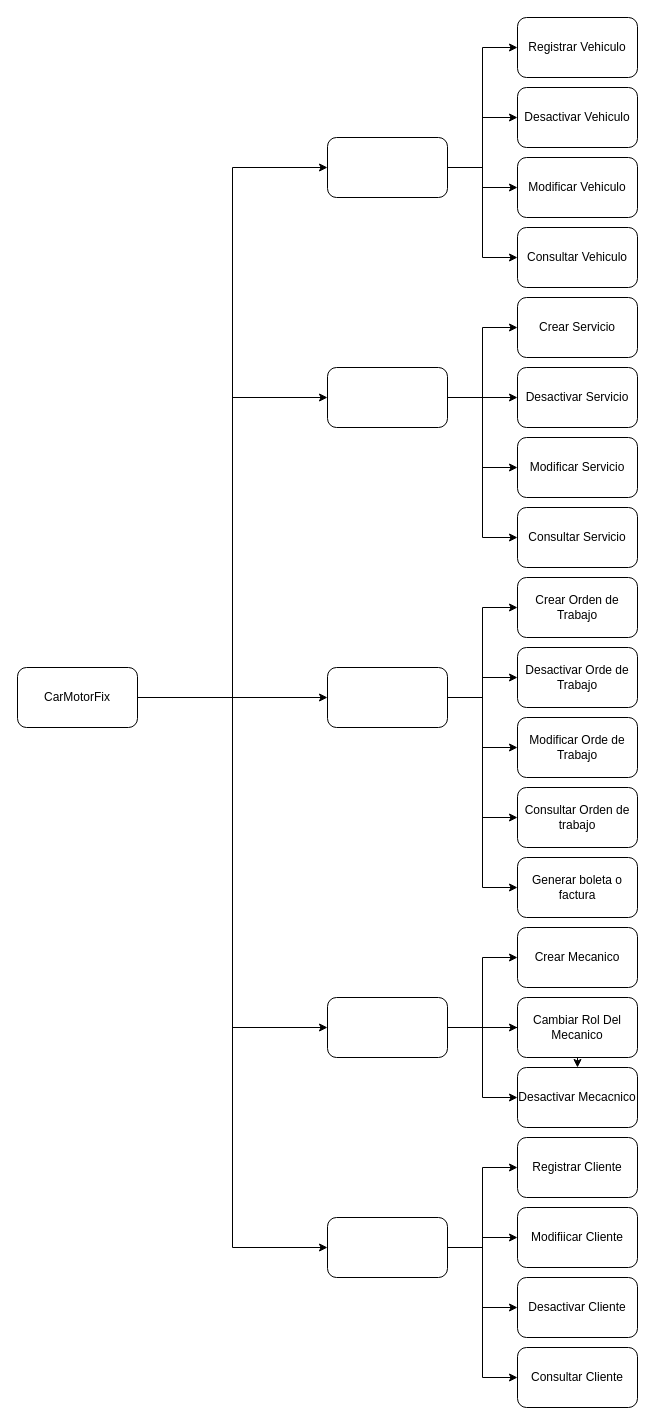
The diagram is 655 pixels wide and 1425 high, and some of its shapes have lost their labels. Here are the shapes that lost their labels. From the top down, the centre of each, then its label:
At [387,167]: "Gestion De Vehiculos".
At [387,397]: "Gestion De Servicios".
At [387,697]: "Gestion De Ordenes De Trabajos".
At [387,1027]: "Gestion De Mecanicos".
At [387,1247]: "Gestion De Clientes".
